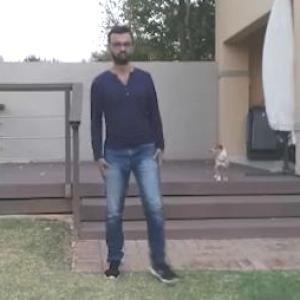follow: (91, 30, 151, 270)
